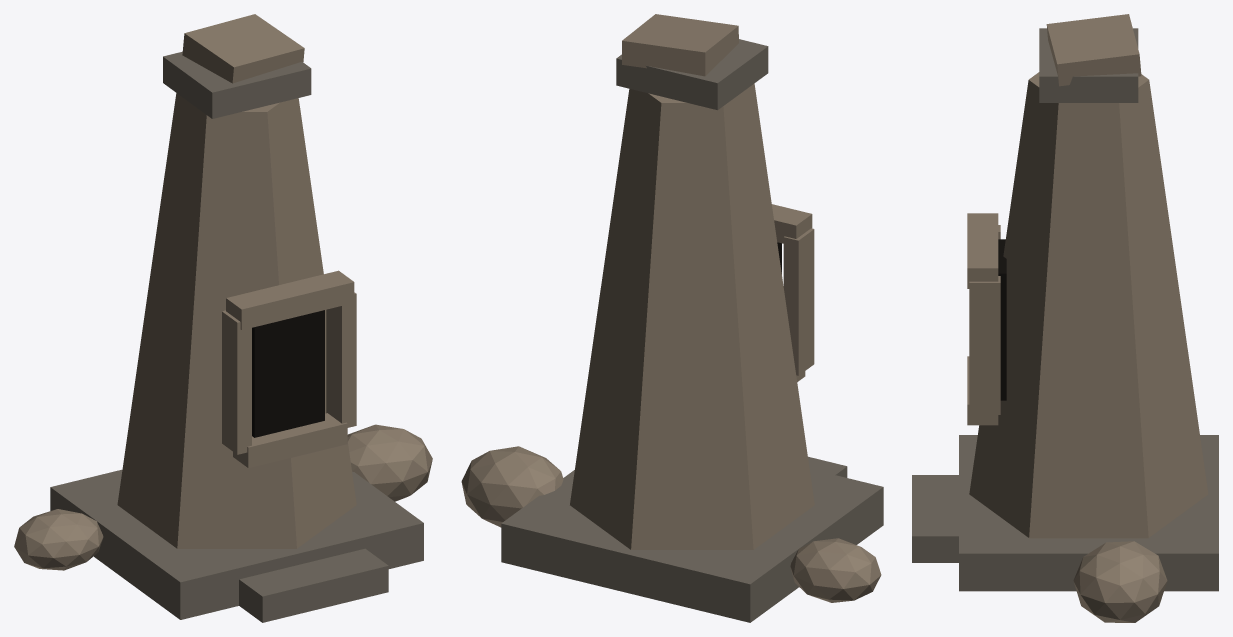
The model's file is tambotoco_huaca_lod0.glb.
3 views of the same model, side by side, from view 1: azimuth 30°, elevation 25°; view 2: azimuth 150°, elevation 25°; view 3: azimuth 270°, elevation 25° (orthographic). The views are drawn at different scales.
Parts seen in each view (by area): view 1: tambotoco_huaca; view 2: tambotoco_huaca; view 3: tambotoco_huaca.
Part boxes in pixels (box(x1,y1,x2,y2)): tambotoco_huaca: box(14, 14, 432, 622); tambotoco_huaca: box(461, 14, 883, 622); tambotoco_huaca: box(912, 14, 1218, 622).
Size of the model in its own units: 4.46 by 5.43 by 2.95.
